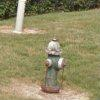Hydrant: (34, 24, 71, 95)
